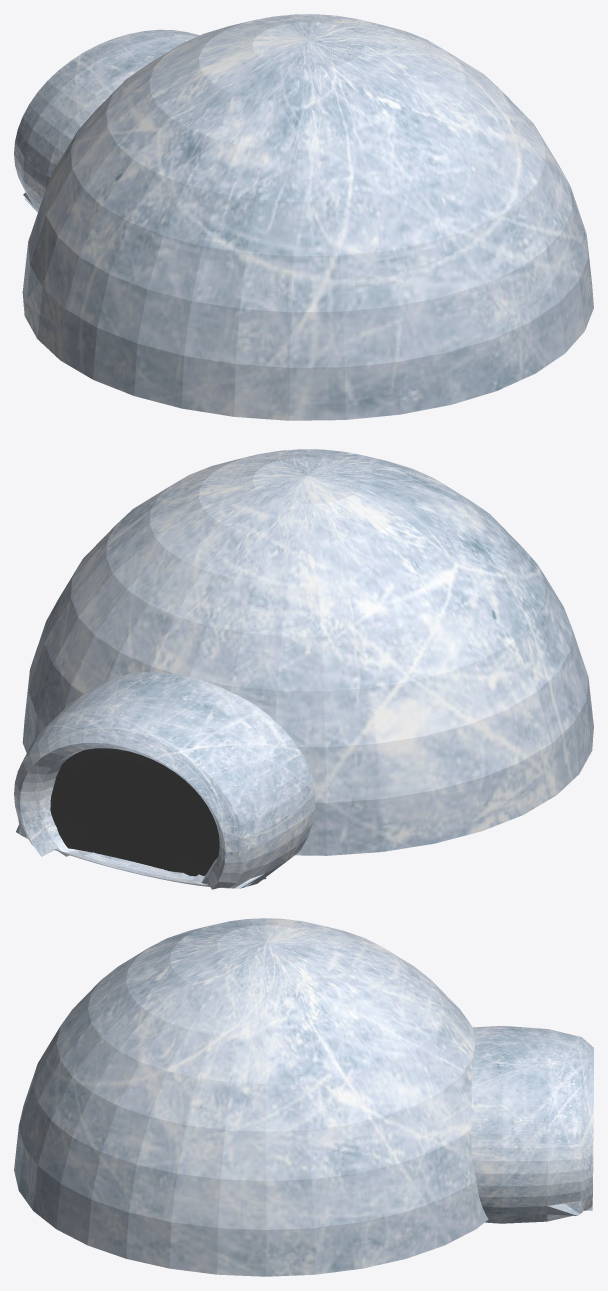
The model's file is base_igloo (1).fbx.
3 views of the same model, one above another, from view 1: azimuth 30°, elevation 25°; view 2: azimuth 150°, elevation 25°; view 3: azimuth 270°, elevation 25° (orthographic). The views are drawn at different scales.
Visible parts, largest first — view 1: Sphere, Torus; view 2: Sphere, Torus, Cylinder; view 3: Sphere, Torus.
Boxes of the visible parts, x1,y1,x2,y2 form: Sphere: (22, 14, 593, 420); Torus: (14, 29, 199, 212); Sphere: (22, 449, 593, 855); Torus: (14, 672, 315, 889); Cylinder: (50, 748, 266, 879); Sphere: (14, 918, 488, 1276); Torus: (471, 1026, 593, 1223).
Size of the model in its own units: 200 by 108 by 230.
3 materials, 3 textured.
